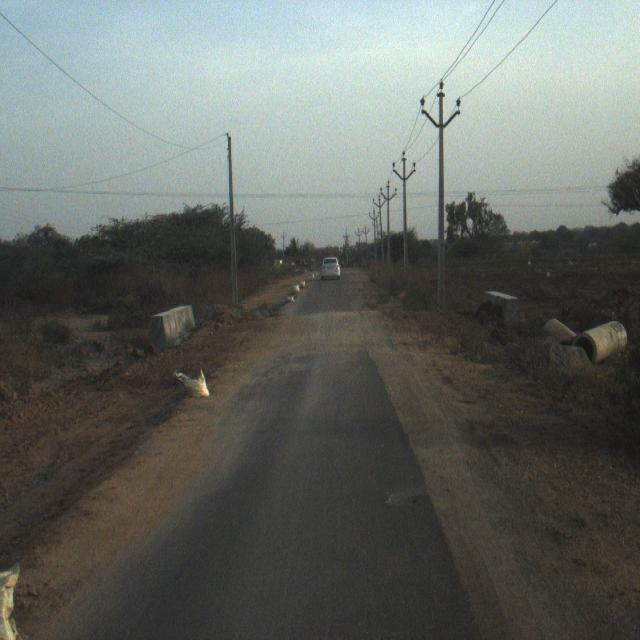Pothole: (387, 481, 423, 516)
